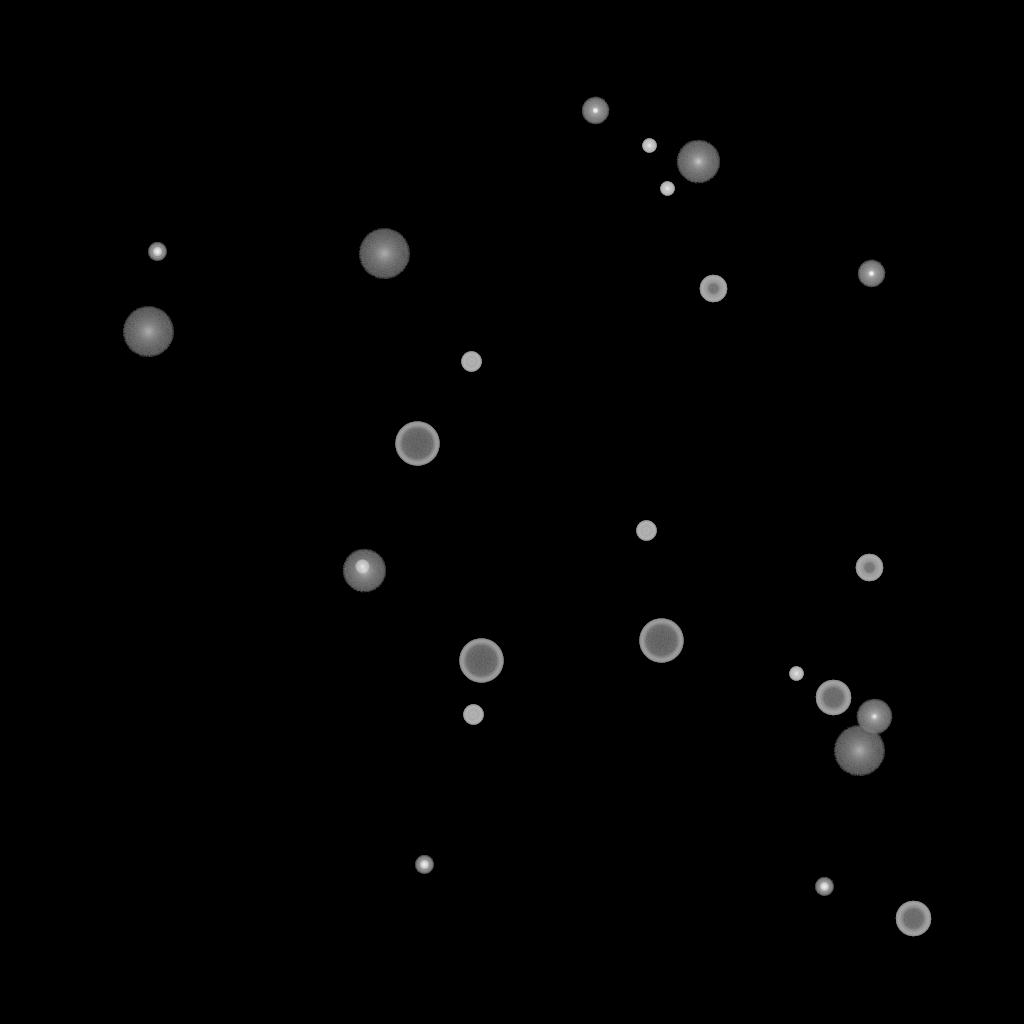depth:-10: (857, 260, 885, 288), (581, 97, 609, 125)
depth:-20: (815, 878, 833, 896), (148, 243, 166, 261), (415, 856, 433, 874)
depth:-30: (642, 139, 656, 153), (660, 182, 674, 196), (789, 667, 803, 681), (355, 560, 369, 574)
depth:-40: (463, 705, 483, 725), (636, 521, 656, 541), (461, 352, 481, 372)
depth:-50: (699, 275, 727, 303), (855, 554, 883, 582)
depth:-60: (895, 901, 931, 937), (815, 680, 851, 716)
depth:-70: (639, 619, 683, 663), (459, 639, 503, 683), (395, 422, 439, 466)
depth:0: (856, 699, 892, 735)
depth:10: (342, 549, 386, 593), (676, 140, 720, 184)
depth:20: (122, 307, 174, 357), (833, 726, 885, 776), (358, 229, 410, 279)
